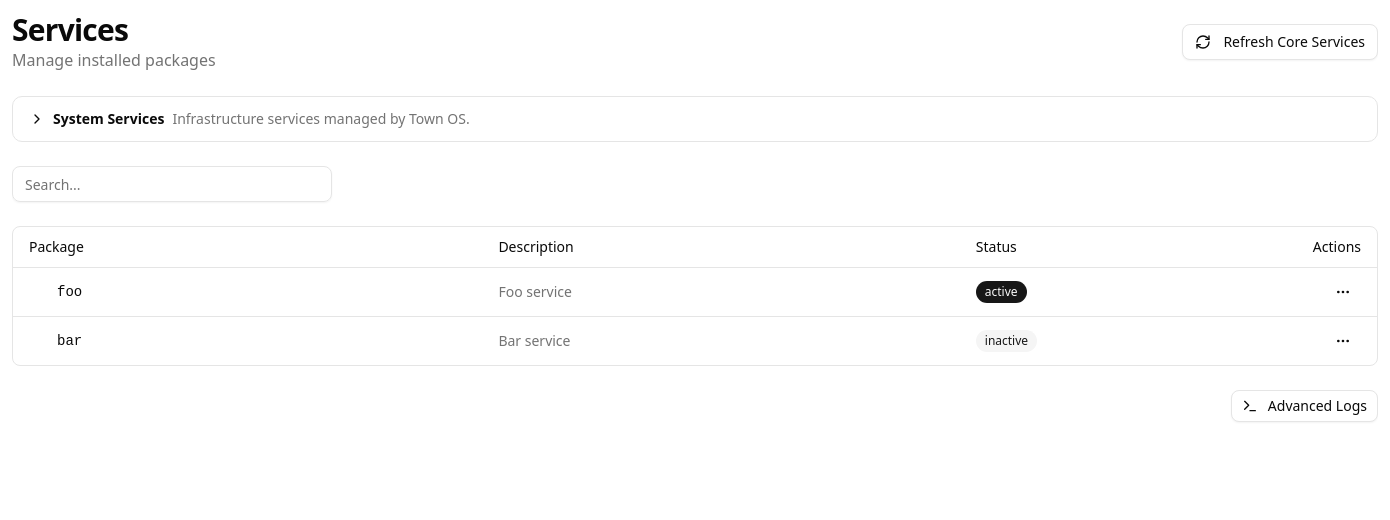
Scenario: SystemManagement › hides Network Logs when network controller is not active
The image size is (1390, 520).
Check: the text "bar" is shown, box 57,330 -> 82,350
Press the mouse on the button named "Service actions" in the row of "Bar service" at (1343, 340), box 1325,324 -> 1361,356
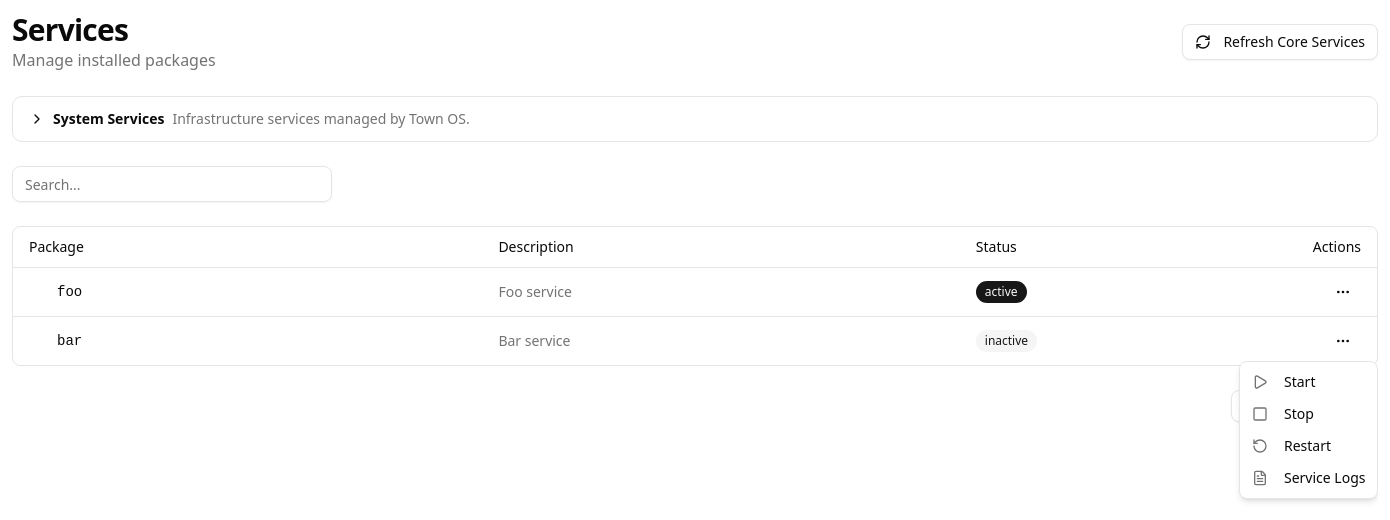
Check: the menu item "Service Logs" is shown, box 1252,468 -> 1366,487
